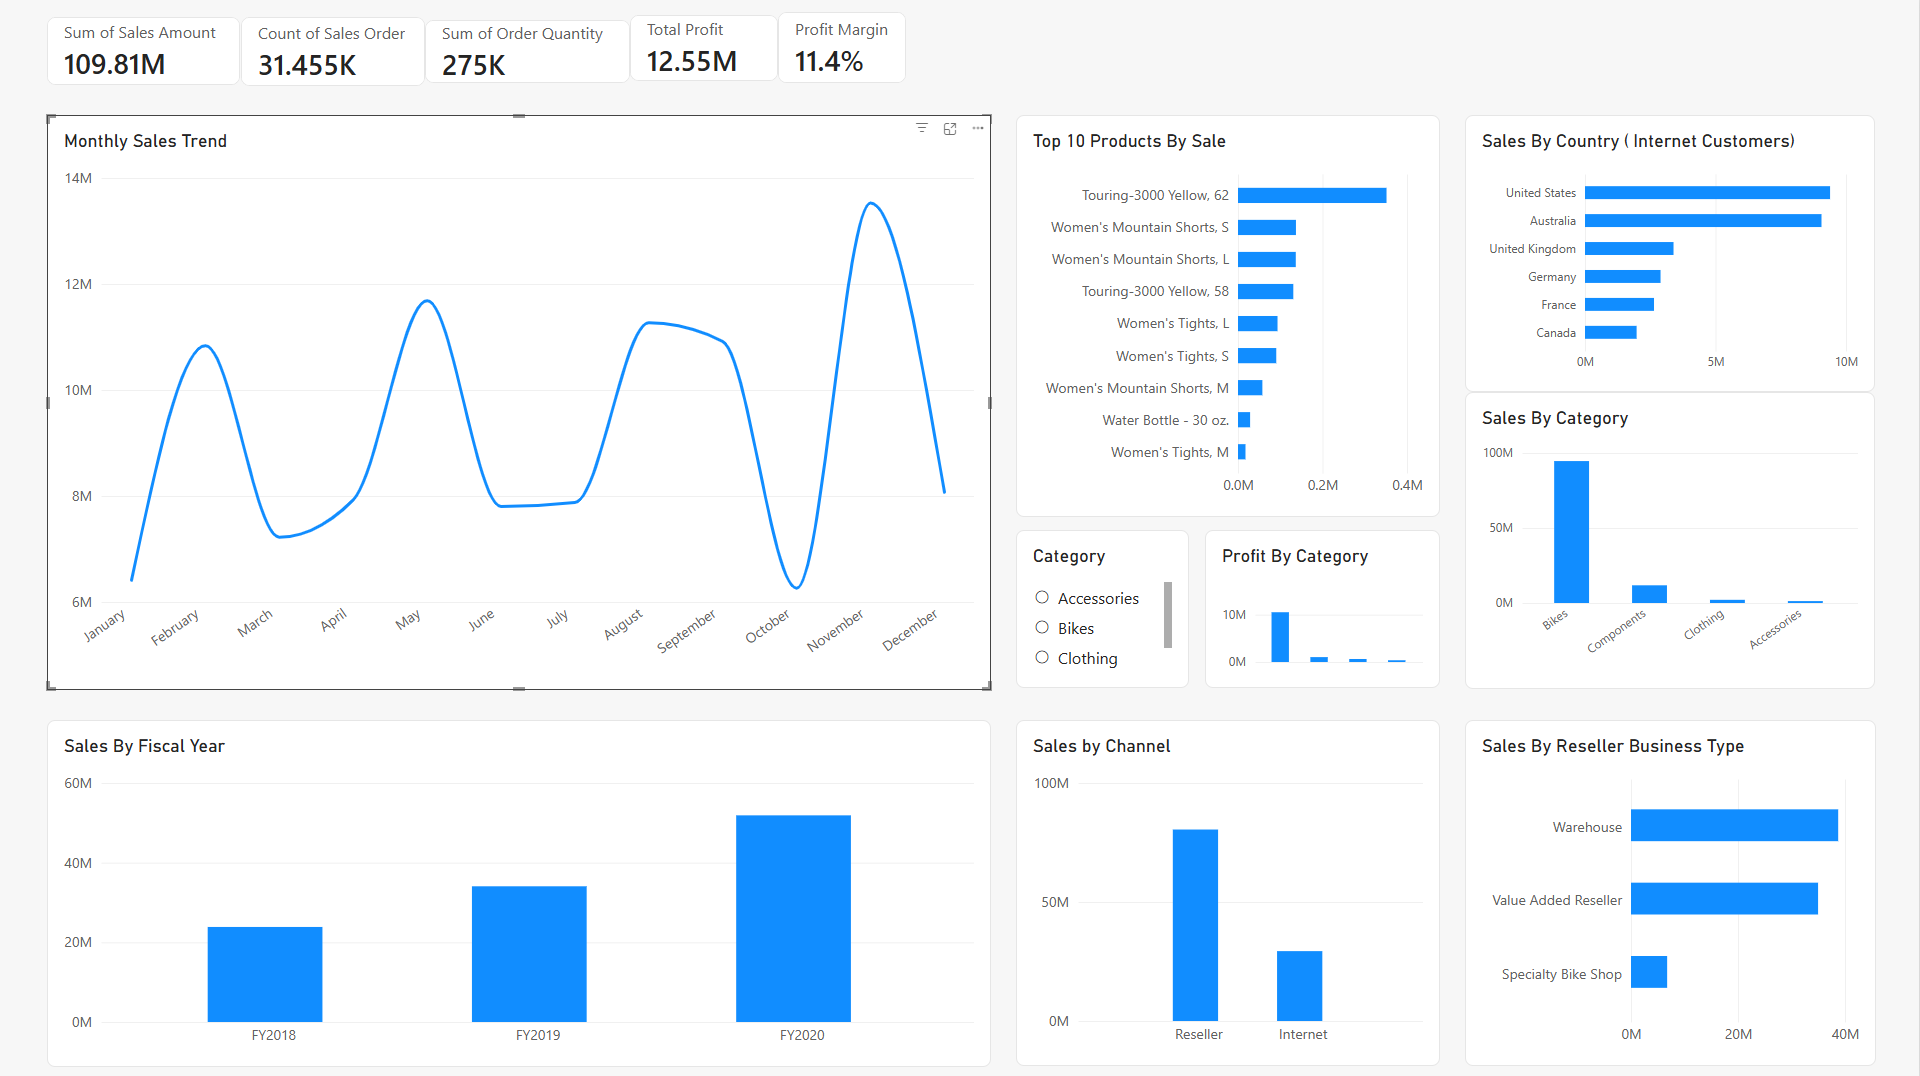

What the dashboard file says about the page in this screenshot:
{"tool":"powerbi","page":{"name":"Page 1","canvas":[1920,1080],"ordinal":0},"visuals":[{"type":"cardVisual","fields":{"Data":["Sum(Sales_data.Sales Amount)"]},"box":[48.2,17.8,192.8,68.5],"z":0},{"type":"cardVisual","fields":{"Data":["Count(Sales Order_data.Sales Order)"]},"box":[242,18.4,184.1,68.4],"z":1000},{"type":"cardVisual","fields":{"Data":["Sum(Sales_data.Order Quantity)"]},"box":[426.1,21,205.2,63.1],"z":2000},{"type":"lineChart","title":"Monthly Sales Trend","fields":{"Category":["Date_data.Date.Variation.Date Hierarchy.Month"],"Y":["Sum(Sales_data.Sales Amount)"]},"box":[47.9,116.3,944,574.6],"z":3000},{"type":"clusteredColumnChart","title":"Sales By Category","fields":{"Category":["Product_data.Category"],"Y":["Sum(Sales_data.Sales Amount)"]},"box":[1465.6,392.9,410,297.2],"z":4000},{"type":"listSlicer","title":"Category","fields":{"Values":["Product_data.Category"]},"box":[1017,531.3,172.5,157.5],"z":5000},{"type":"cardVisual","fields":{"Data":["Sales_data.Total Profit"]},"box":[631.2,15.8,147.3,65.8],"z":6000},{"type":"cardVisual","fields":{"Data":["Sales_data.Profit Margin"]},"box":[778.5,13.2,128.9,71],"z":7000},{"type":"clusteredColumnChart","title":"Profit By Category","fields":{"Category":["Product_data.Category"],"Y":["Sales_data.Total Profit"]},"box":[1206.3,531.3,234.9,157.3],"z":9000},{"type":"clusteredBarChart","title":"Sales By Country ( Internet Customers)","fields":{"Category":["Customer_data.Country-Region"],"Y":["Sum(Sales_data.Sales Amount)"]},"box":[1466.2,116.3,410,276.7],"z":10000},{"type":"clusteredBarChart","title":"Top 10 Products By Sale","fields":{"Category":["Product_data.Product"],"Y":["Sum(Sales_data.Sales Amount)"]},"box":[1017,116.3,424.1,401.3],"z":11000},{"type":"clusteredColumnChart","title":"Sales By Fiscal Year","fields":{"Category":["Date_data.Fiscal Year"],"Y":["Sum(Sales_data.Sales Amount)"]},"box":[47.9,720.6,944,347],"z":12000},{"type":"clusteredColumnChart","title":"Sales by Channel","fields":{"Category":["Sales Order_data.Channel"],"Y":["Sum(Sales_data.Sales Amount)"]},"box":[1017,720.6,424.1,346.6],"z":13000},{"type":"clusteredBarChart","title":"Sales By Reseller Business Type","fields":{"Category":["Reseller_data.Business Type"],"Y":["Sum(Sales_data.Sales Amount)"]},"box":[1466.2,720.6,410.5,346.6],"z":14000}]}

Visuals, with their boxes in screenshot pixels (x1, y1, x2, y2), scaled from the page's 1920x1080 canvas onto the 1920x1076 screenshot:
cardVisual - Sum(Sales_data.Sales Amount): detection(48, 18, 241, 86)
cardVisual - Count(Sales Order_data.Sales Order): detection(242, 18, 426, 86)
cardVisual - Sum(Sales_data.Order Quantity): detection(426, 21, 631, 84)
"Monthly Sales Trend" lineChart: detection(48, 116, 992, 688)
"Sales By Category" clusteredColumnChart: detection(1466, 391, 1876, 688)
"Category" listSlicer: detection(1017, 529, 1190, 686)
cardVisual - Sales_data.Total Profit: detection(631, 16, 778, 81)
cardVisual - Sales_data.Profit Margin: detection(778, 13, 907, 84)
"Profit By Category" clusteredColumnChart: detection(1206, 529, 1441, 686)
"Sales By Country ( Internet Customers)" clusteredBarChart: detection(1466, 116, 1876, 392)
"Top 10 Products By Sale" clusteredBarChart: detection(1017, 116, 1441, 516)
"Sales By Fiscal Year" clusteredColumnChart: detection(48, 718, 992, 1064)
"Sales by Channel" clusteredColumnChart: detection(1017, 718, 1441, 1063)
"Sales By Reseller Business Type" clusteredBarChart: detection(1466, 718, 1877, 1063)
